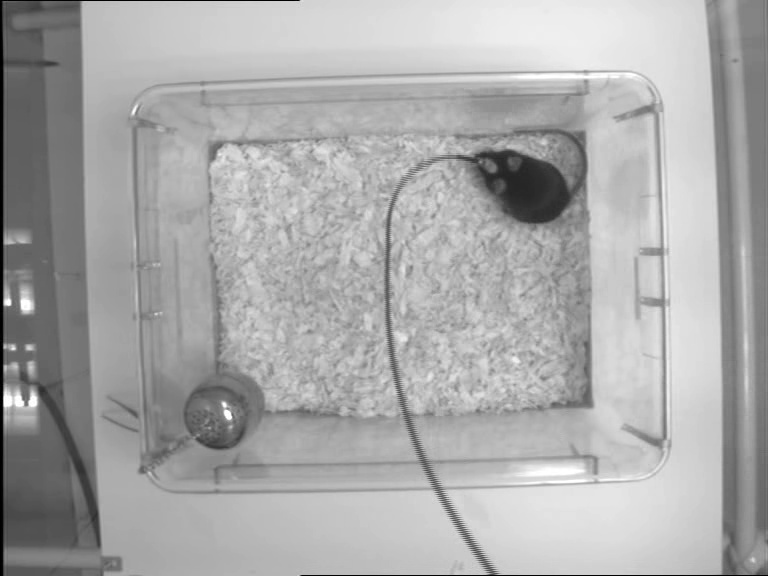mice: (471, 129, 588, 225)
